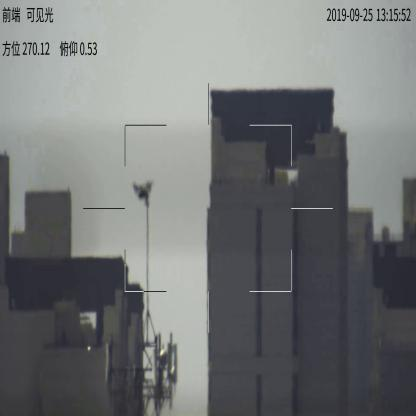uav: (132, 178, 152, 206)
